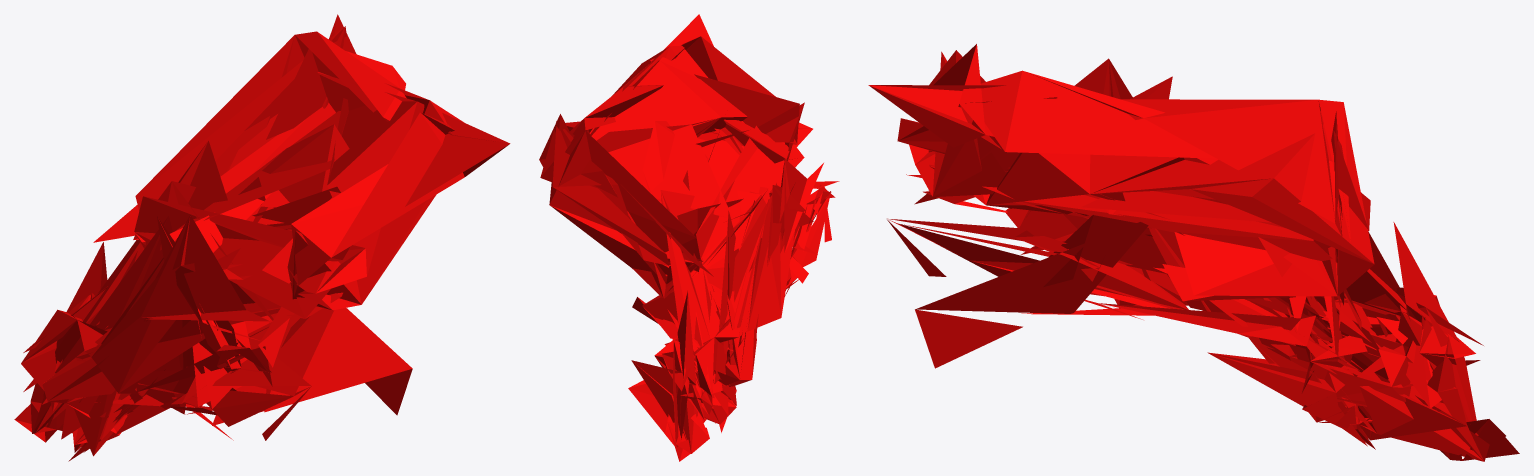
3 renders of one model, left to right at view 1: azimuth 30°, elevation 25°; view 2: azimuth 150°, elevation 25°; view 3: azimuth 270°, elevation 25°, orthographic. The views are drawn at different scales.
Visible parts, largest first — view 1: Renderer Node; view 2: Renderer Node; view 3: Renderer Node.
Part boxes in pixels (x1,y1,x2,y2): Renderer Node: (14,14,510,461); Renderer Node: (539,14,839,461); Renderer Node: (868,44,1519,461).
Bounding box in the file's own units: 0.5213 × 0.66 × 0.739.
Materials: 1 (1 with a texture image).
